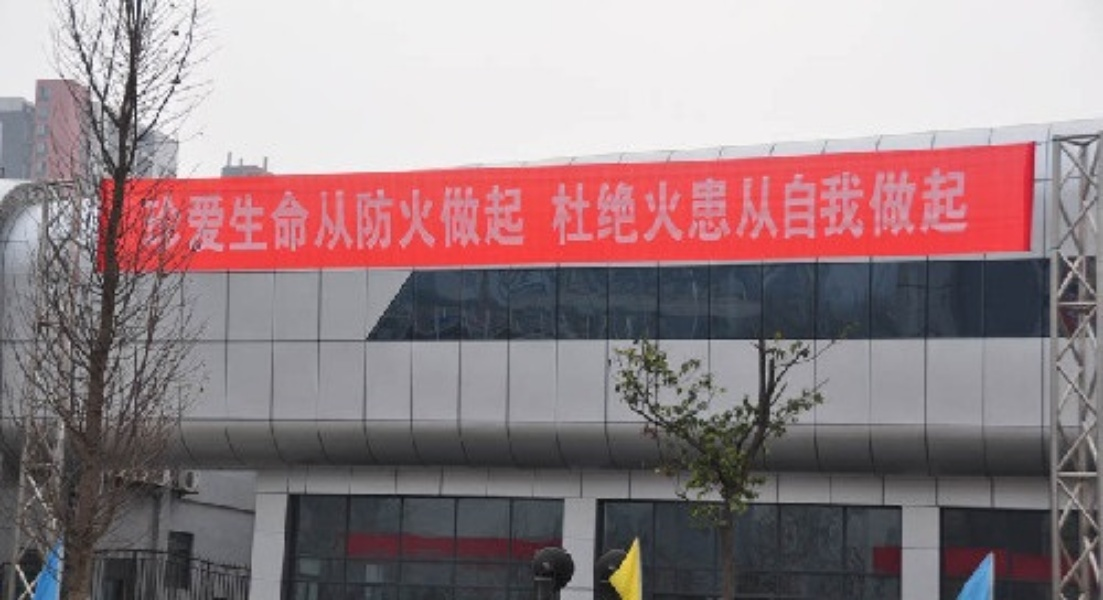text: (561, 164, 576, 254), (577, 164, 592, 254), (593, 164, 608, 254), (609, 164, 624, 254), (625, 164, 640, 254), (641, 164, 656, 254), (657, 164, 672, 254), (673, 164, 688, 254), (689, 164, 704, 254), (705, 164, 720, 254), (721, 164, 736, 254), (737, 164, 752, 254), (753, 164, 768, 254), (769, 164, 784, 254), (785, 164, 800, 254), (801, 164, 816, 254), (817, 164, 832, 254), (833, 164, 848, 254), (849, 164, 864, 254), (865, 164, 880, 254), (881, 164, 896, 254), (897, 164, 912, 254), (913, 164, 928, 254), (929, 164, 944, 254), (945, 164, 960, 254), (961, 164, 976, 254), (161, 179, 176, 261), (177, 179, 192, 261), (193, 179, 208, 261), (209, 179, 224, 261), (225, 179, 240, 261), (241, 179, 256, 261), (257, 179, 272, 261), (273, 179, 288, 261), (289, 179, 304, 261), (305, 179, 320, 261), (321, 179, 336, 261), (337, 179, 352, 261), (353, 179, 368, 261), (369, 179, 384, 261), (385, 179, 400, 261), (401, 179, 416, 261), (417, 179, 432, 261), (433, 179, 448, 261), (449, 179, 464, 261), (465, 179, 480, 261), (481, 179, 496, 261), (497, 179, 512, 261), (513, 179, 528, 261), (146, 179, 160, 261), (552, 164, 560, 254)
